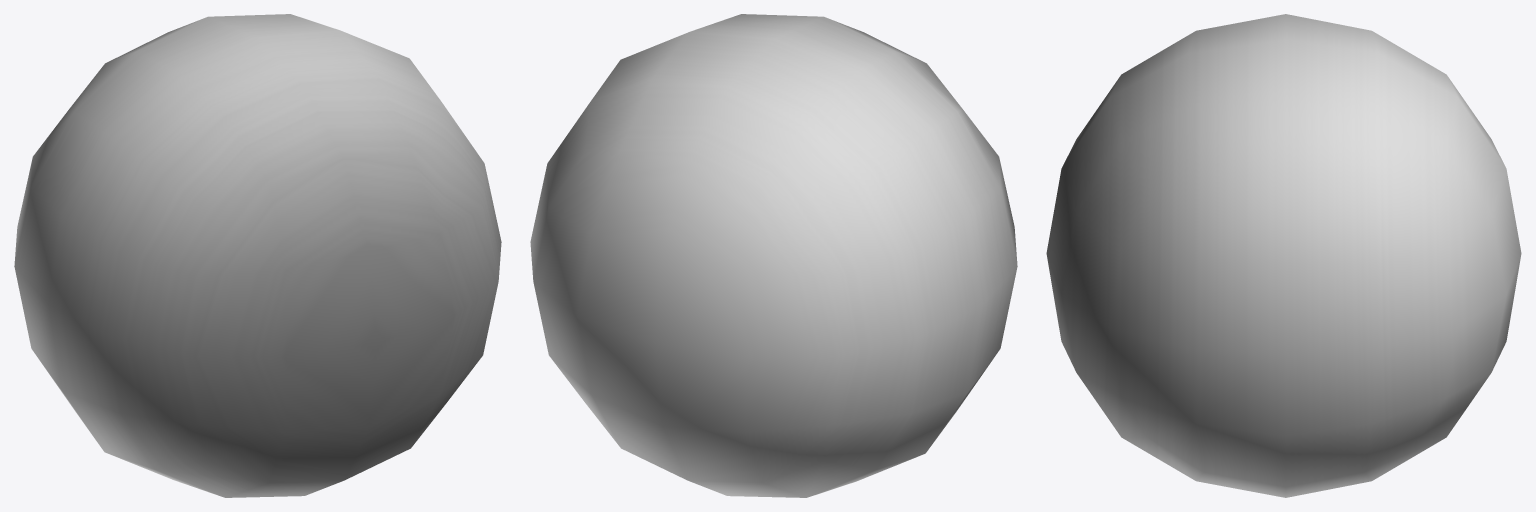
File: Cannon 2 Bullet.fbx
3 views of the same model, side by side, from view 1: azimuth 30°, elevation 25°; view 2: azimuth 150°, elevation 25°; view 3: azimuth 270°, elevation 25° (orthographic).
Visible parts, largest first — view 1: Cannon_2_Bullet; view 2: Cannon_2_Bullet; view 3: Cannon_2_Bullet.
Boxes of the visible parts, <box> form: Cannon_2_Bullet: <box>14,14,501,497</box>; Cannon_2_Bullet: <box>530,14,1017,497</box>; Cannon_2_Bullet: <box>1046,14,1521,497</box>.
Size of the model in its own units: 37.16 by 37.16 by 37.16.
1 material, 1 textured.
